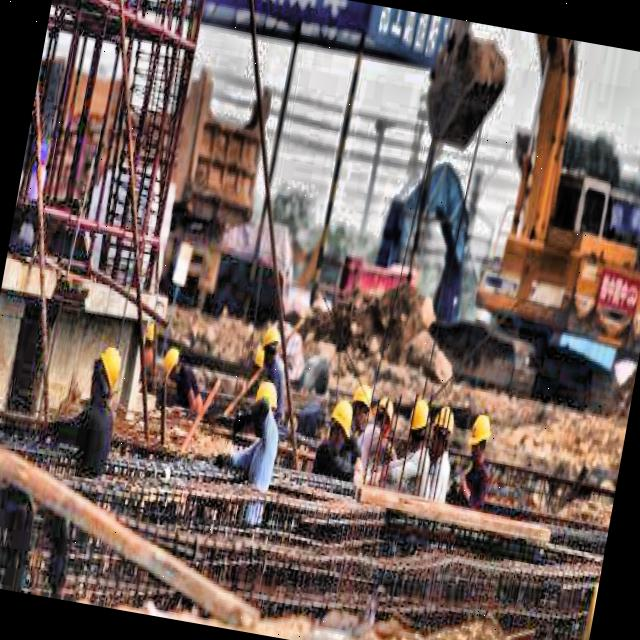helmet: (85, 333, 132, 408), (427, 395, 462, 459), (462, 408, 498, 468), (367, 389, 400, 446), (324, 396, 356, 453), (248, 378, 282, 430), (404, 396, 436, 450), (348, 376, 378, 431), (256, 322, 284, 371), (162, 343, 187, 383)
